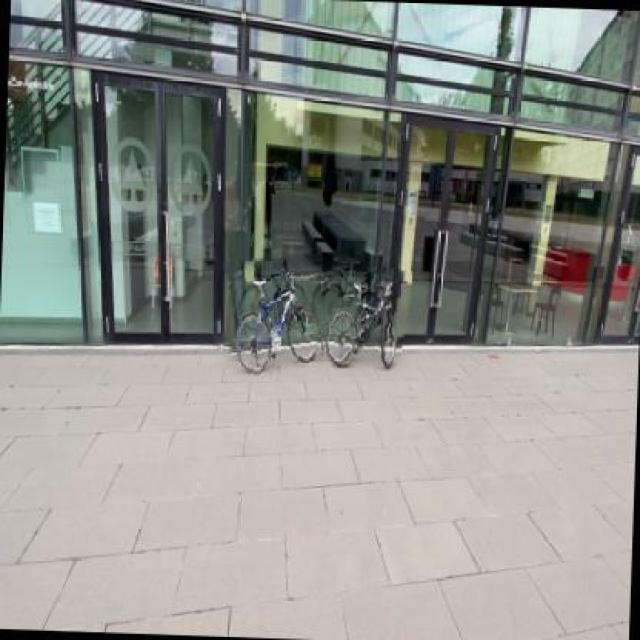bicycle: (224, 253, 333, 379), (322, 263, 410, 371)
